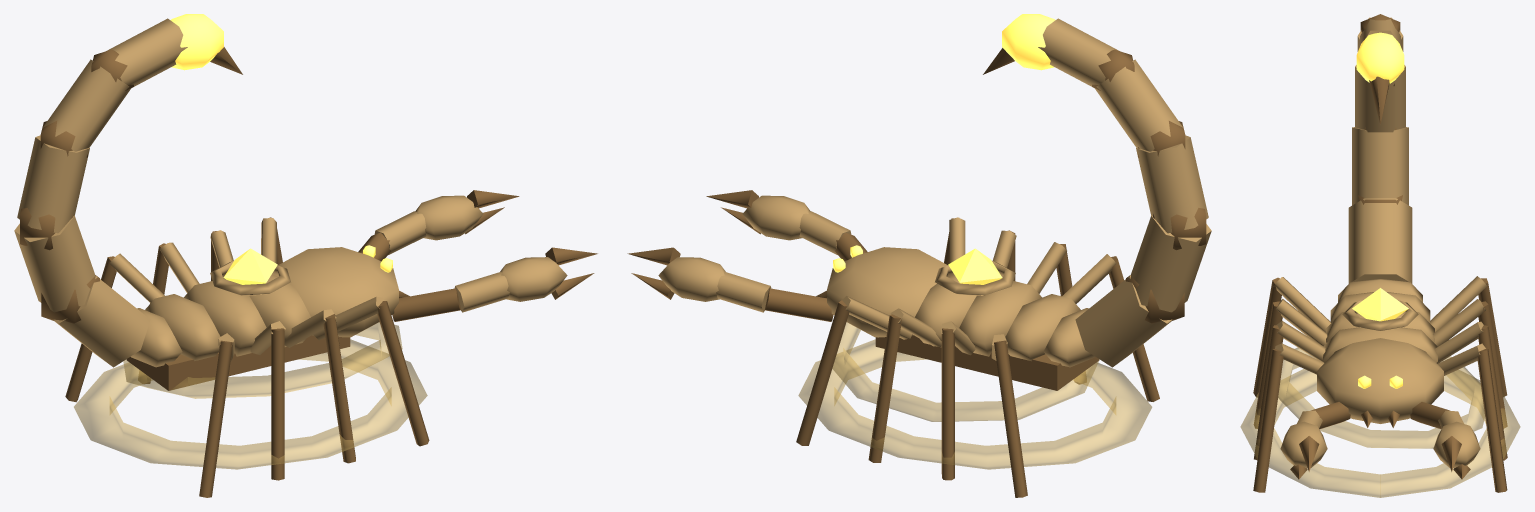
File: enemy_boss_desert.glb
The picture shows the model from 3 angles, left to right: view 1: azimuth 30°, elevation 25°; view 2: azimuth 150°, elevation 25°; view 3: azimuth 270°, elevation 25°; orthographic projection. The views are drawn at different scales.
Visible parts, largest first — view 1: tail, sand_veil_low, prosoma, sand_veil_high, underbelly, plate_1, plate_2, claw_l, claw_r, leg_l_3_lower, stinger_bulb, leg_l_2_lower (+15 smaller); view 2: tail, sand_veil_low, prosoma, sand_veil_high, underbelly, plate_1, plate_2, claw_r, claw_l, leg_r_3_lower, stinger_bulb, leg_r_2_lower (+15 smaller); view 3: tail, sand_veil_low, prosoma, sand_veil_high, stinger_bulb, leg_l_0_lower, leg_r_0_lower, plate_0, claw_l, claw_r, core_gem, plate_3 (+22 smaller).
Part boxes in pixels (box(x1,y1,x2,y2)): tail: box(14, 18, 187, 367); sand_veil_low: box(74, 339, 427, 469); prosoma: box(278, 247, 398, 337); sand_veil_high: box(123, 322, 402, 398); underbelly: box(126, 335, 350, 390); plate_1: box(184, 281, 266, 356); plate_2: box(145, 294, 220, 360); claw_l: box(500, 257, 567, 301); claw_r: box(415, 195, 483, 240); leg_l_3_lower: box(199, 340, 232, 497); stinger_bulb: box(170, 14, 223, 70); leg_l_2_lower: box(271, 328, 284, 480); tail: box(1038, 18, 1211, 367); sand_veil_low: box(798, 339, 1151, 469); prosoma: box(827, 247, 947, 337); sand_veil_high: box(832, 322, 1099, 421); underbelly: box(875, 335, 1099, 390); plate_1: box(959, 281, 1041, 356); plate_2: box(1005, 294, 1080, 361); claw_r: box(658, 257, 725, 301); claw_l: box(742, 195, 810, 240); leg_r_3_lower: box(994, 340, 1027, 497); stinger_bulb: box(1002, 14, 1055, 70); leg_r_2_lower: box(941, 328, 954, 480); tail: box(1348, 14, 1412, 283); sand_veil_low: box(1240, 369, 1520, 497); prosoma: box(1317, 338, 1443, 423); sand_veil_high: box(1278, 347, 1484, 448); stinger_bulb: box(1356, 32, 1404, 83); leg_l_0_lower: box(1253, 349, 1283, 492); leg_r_0_lower: box(1477, 349, 1507, 492); plate_0: box(1323, 327, 1437, 362); claw_l: box(1280, 421, 1327, 467); claw_r: box(1433, 421, 1480, 467); core_gem: box(1352, 288, 1408, 321); plate_3: box(1338, 279, 1422, 302).
Bounding box in the file's own units: 0.8903 × 0.6631 × 0.44.
